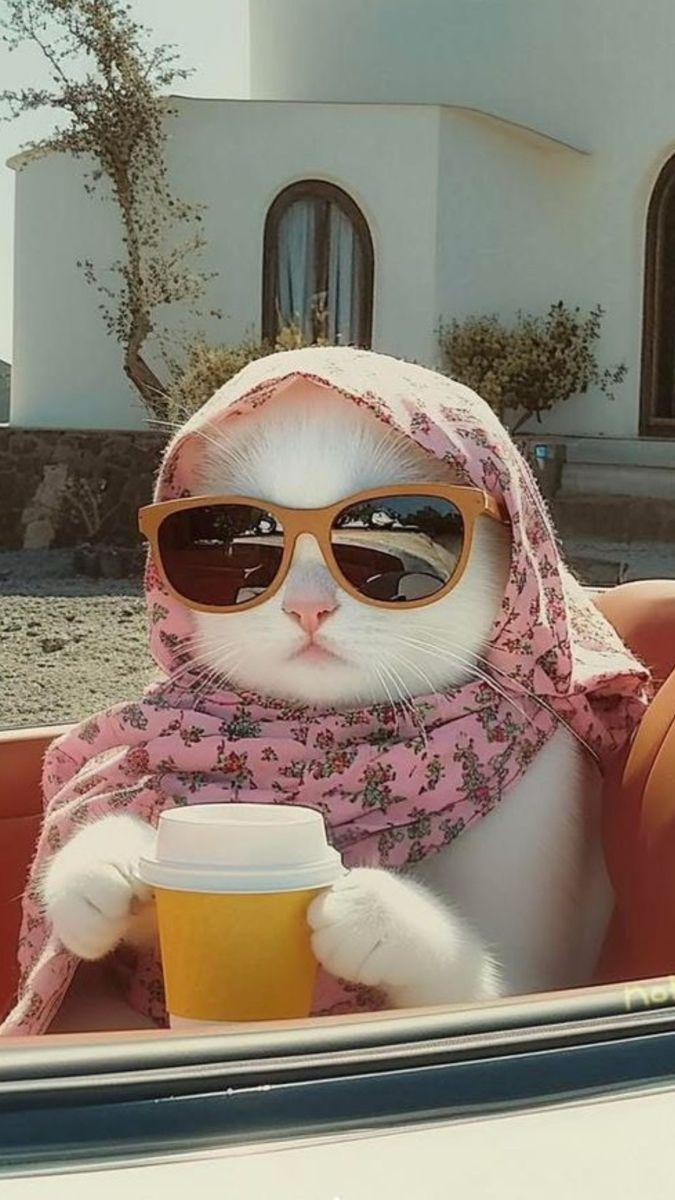kedo: (34, 370, 612, 1038)
